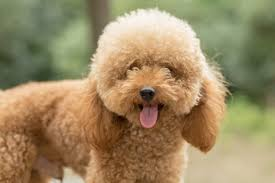Poodle: (5, 4, 228, 183)
